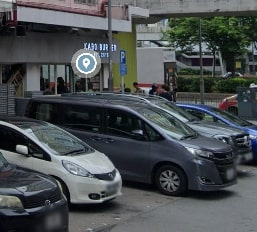Parking: (118, 48, 127, 75)
